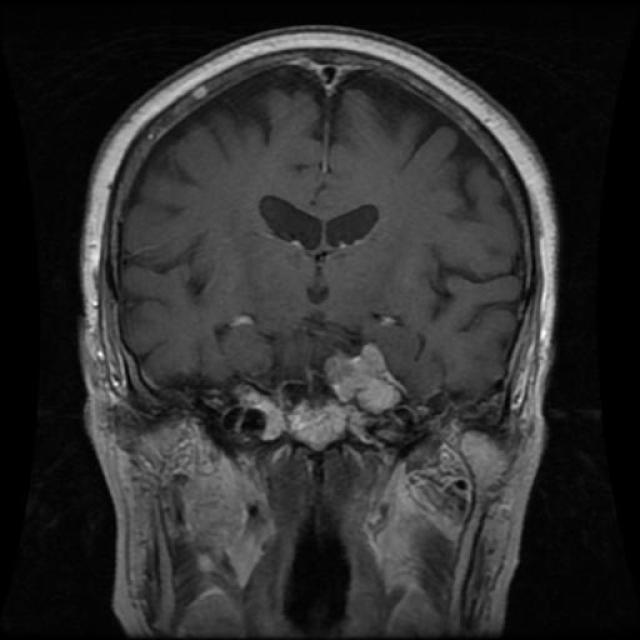Tumor: (322, 340, 406, 409)
